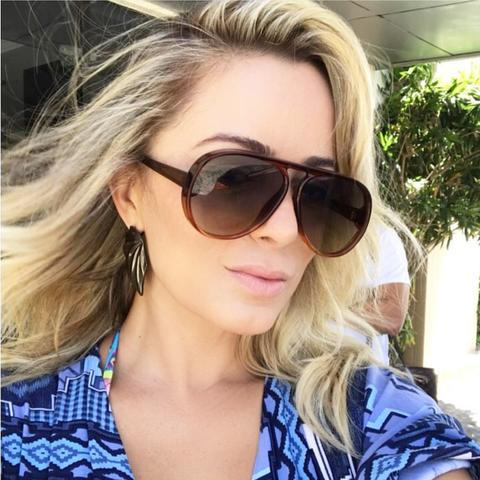sunglasses: (103, 138, 396, 257)
